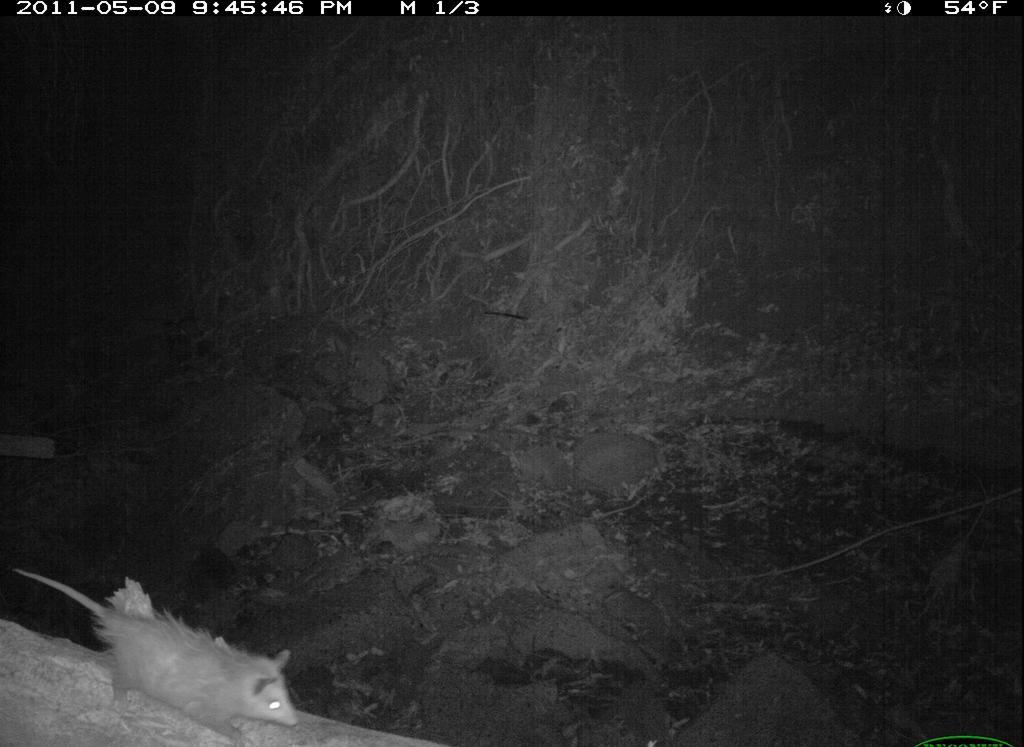opossum: (7, 559, 314, 747)
